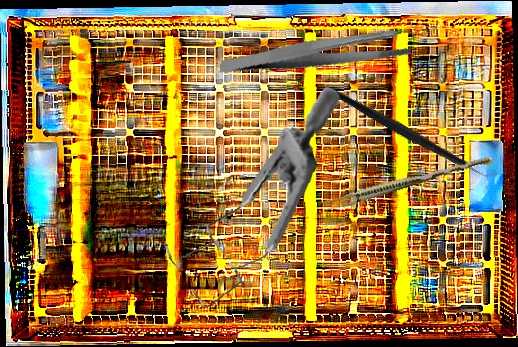Chopper: (327, 40, 502, 225)
Dressing Forceps: (219, 7, 414, 99)
Speculum: (158, 74, 341, 321)
Tissue Forceps: (321, 149, 494, 216)
